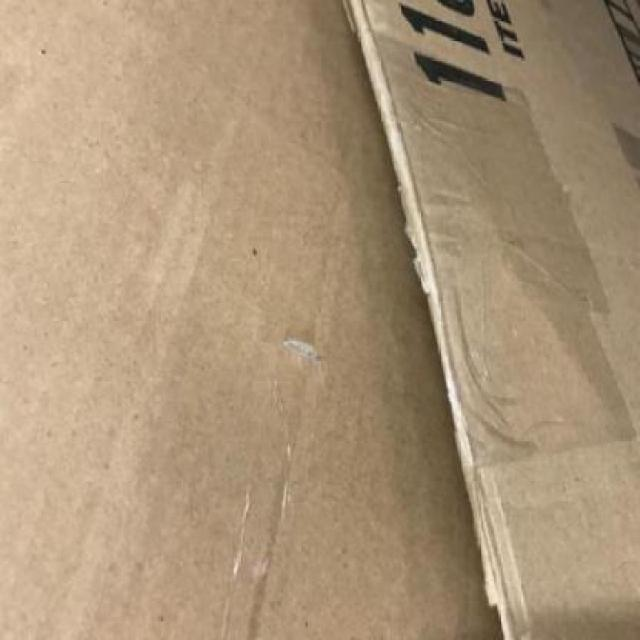CARDBOARD: (0, 0, 638, 638), (340, 0, 639, 638)
